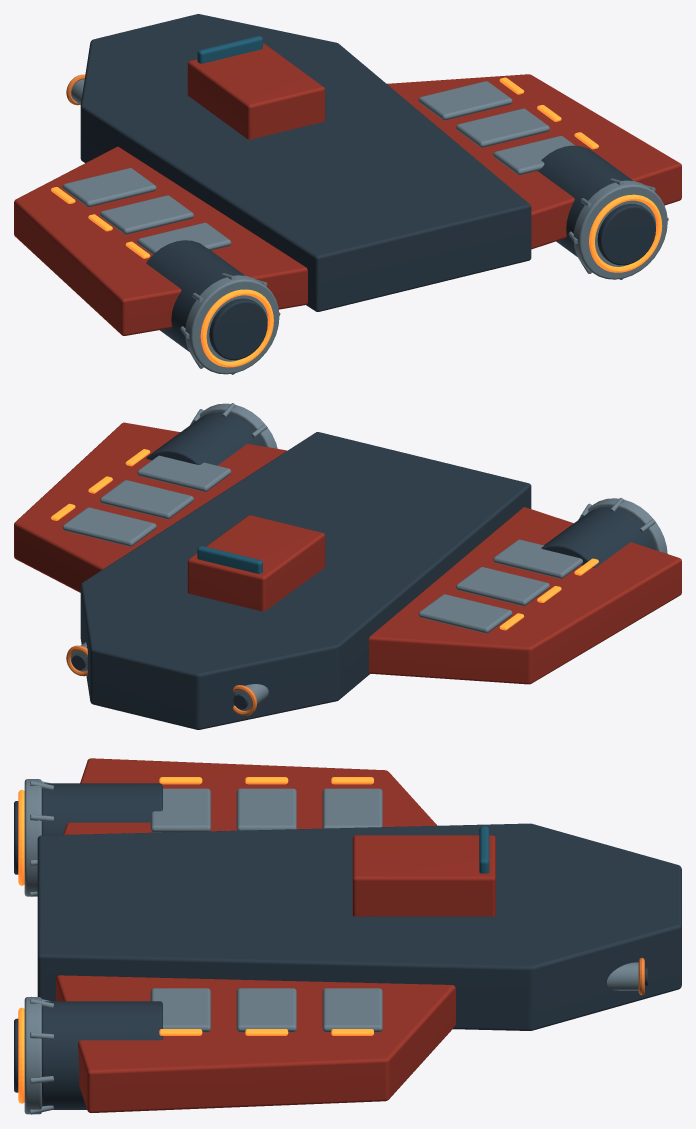
File: DroneCarrier.fbx
The picture shows the model from 3 angles, top to bottom: view 1: azimuth 30°, elevation 25°; view 2: azimuth 150°, elevation 25°; view 3: azimuth 270°, elevation 25°; orthographic projection. The views are drawn at different scales.
Parts seen in each view (by area): view 1: Carrier main hull, Launch sponson, Launch sponson.001, Flight operations bridge, Engine pressure vessel.006, Engine pressure vessel.007, Exhaust rim.006, Exhaust rim.007, Dark exhaust throat.006, Dark exhaust throat.007, Drone launch track.002, Drone launch track.001 (+7 smaller); view 2: Carrier main hull, Launch sponson, Launch sponson.001, Flight operations bridge, Engine pressure vessel.006, Engine pressure vessel.007, Drone launch track.001, Drone launch track.002, Drone launch track.005, Drone launch track.004, Drone launch track.003, Drone launch track (+3 smaller); view 3: Carrier main hull, Launch sponson.001, Flight operations bridge, Launch sponson, Engine pressure vessel.007, Engine pressure vessel.006, Drone launch track.001, Drone launch track.005, Drone launch track.004, Drone launch track.002, Drone launch track, Drone launch track.003 (+5 smaller).
Boxes of the visible parts, box(x1,y1,x2,y2) form: Carrier main hull: box(80, 14, 531, 311); Launch sponson: box(14, 146, 307, 335); Launch sponson.001: box(387, 74, 681, 249); Flight operations bridge: box(187, 43, 325, 139); Engine pressure vessel.006: box(146, 240, 244, 351); Engine pressure vessel.007: box(538, 145, 632, 256); Exhaust rim.006: box(185, 275, 279, 374); Exhaust rim.007: box(573, 180, 667, 279); Dark exhaust throat.006: box(209, 298, 267, 360); Dark exhaust throat.007: box(597, 203, 655, 265); Drone launch track.002: box(62, 168, 156, 207); Drone launch track.001: box(100, 195, 193, 234); Carrier main hull: box(80, 432, 531, 729); Launch sponson: box(369, 507, 681, 684); Launch sponson.001: box(14, 422, 286, 592); Flight operations bridge: box(187, 515, 325, 611); Engine pressure vessel.006: box(541, 507, 655, 567); Engine pressure vessel.007: box(146, 412, 264, 465); Drone launch track.001: box(456, 567, 549, 606); Drone launch track.002: box(418, 594, 512, 633); Drone launch track.005: box(62, 507, 156, 546); Drone launch track.004: box(100, 480, 193, 519); Drone launch track.003: box(137, 455, 231, 491); Drone launch track: box(493, 539, 582, 578); Carrier main hull: box(37, 823, 681, 1030); Launch sponson.001: box(56, 975, 455, 1112); Flight operations bridge: box(352, 835, 495, 916); Launch sponson: box(63, 758, 436, 834); Engine pressure vessel.007: box(42, 1001, 162, 1109); Engine pressure vessel.006: box(42, 783, 162, 835); Drone launch track.001: box(236, 788, 296, 830); Drone launch track.005: box(322, 988, 382, 1032); Drone launch track.004: box(236, 988, 296, 1032); Drone launch track.002: box(322, 788, 382, 828); Drone launch track: box(150, 788, 210, 832); Drone launch track.003: box(150, 988, 210, 1032).
Size of the model in its own units: 520 by 124 by 467.
